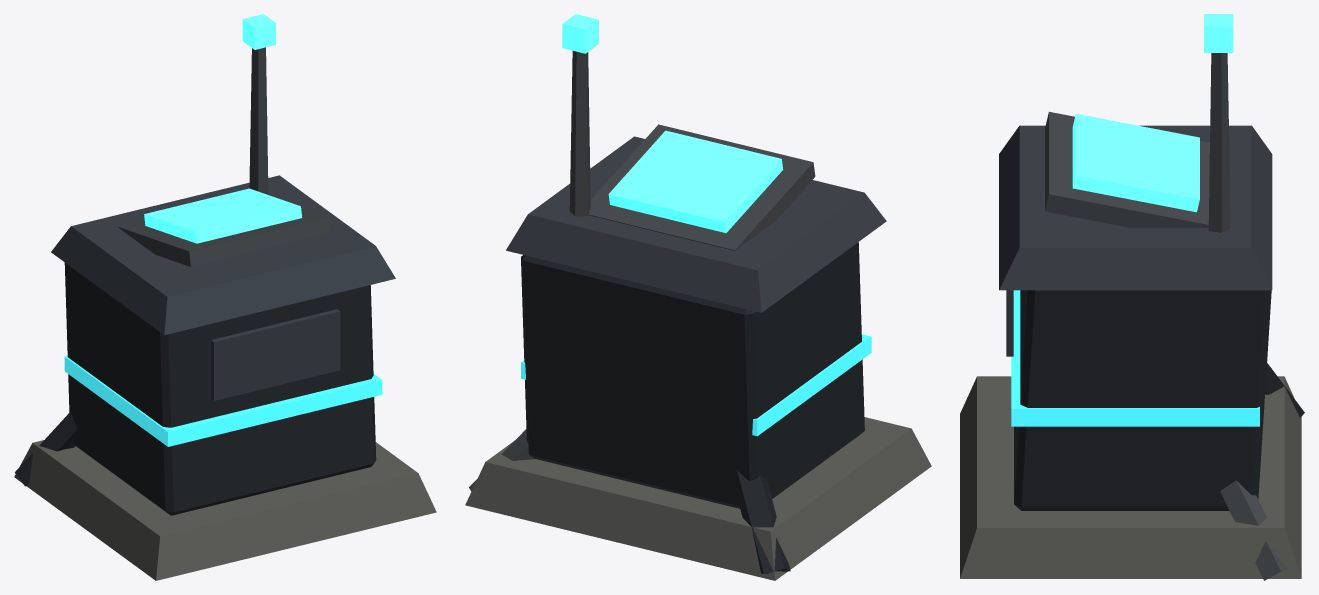
The model's file is device_relay_node.glb.
The picture shows the model from 3 angles, left to right: view 1: azimuth 30°, elevation 25°; view 2: azimuth 150°, elevation 25°; view 3: azimuth 270°, elevation 25°; orthographic projection. The views are drawn at different scales.
Parts seen in each view (by area): view 1: device_relay_node_mesh; view 2: device_relay_node_mesh; view 3: device_relay_node_mesh.
Part boxes in pixels (bbox=[...]): device_relay_node_mesh: bbox=[14, 14, 436, 580]; device_relay_node_mesh: bbox=[465, 14, 931, 580]; device_relay_node_mesh: bbox=[960, 14, 1304, 580].
Size of the model in its own units: 0.8257 by 1.17 by 0.707.
